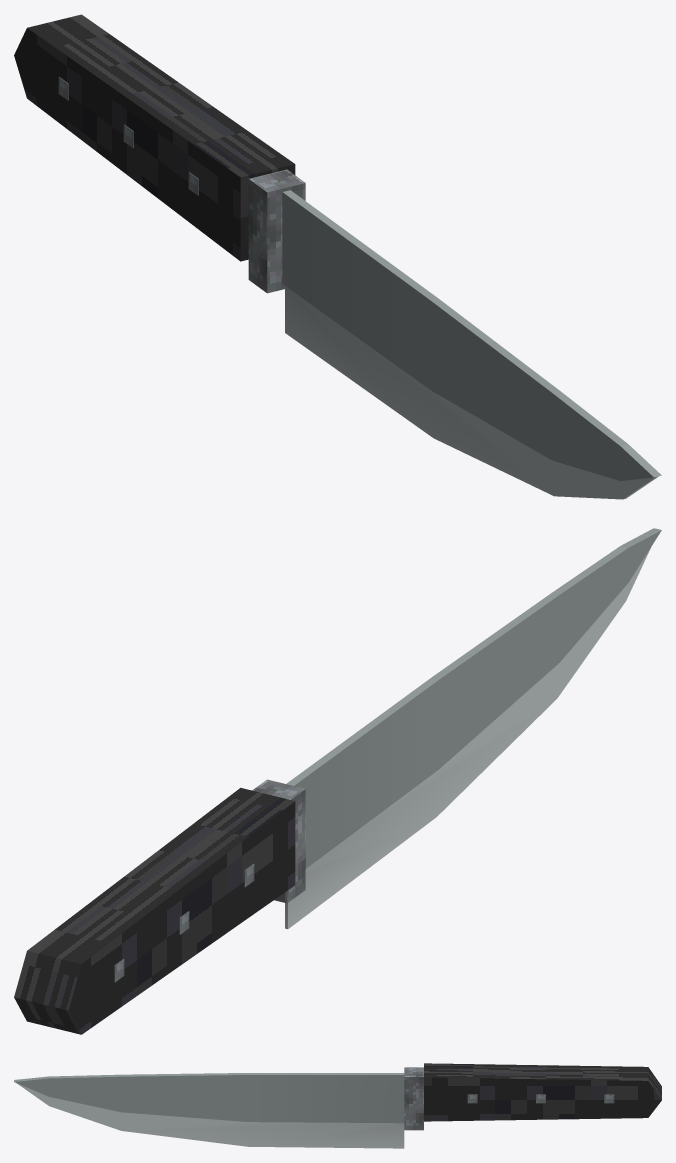
File: kitchen_knife.glb
3 views of the same model, one above another, from view 1: azimuth 30°, elevation 25°; view 2: azimuth 150°, elevation 25°; view 3: azimuth 270°, elevation 25° (orthographic). The views are drawn at different scales.
Parts seen in each view (by area): view 1: kitchen_knife; view 2: kitchen_knife; view 3: kitchen_knife.
Part boxes in pixels (bbox=[...]): kitchen_knife: bbox=[14, 14, 661, 499]; kitchen_knife: bbox=[14, 528, 661, 1034]; kitchen_knife: bbox=[14, 1063, 661, 1148].
Bounding box in the file's own units: 0.0175 × 0.044 × 0.332.
1 material, 1 textured.
